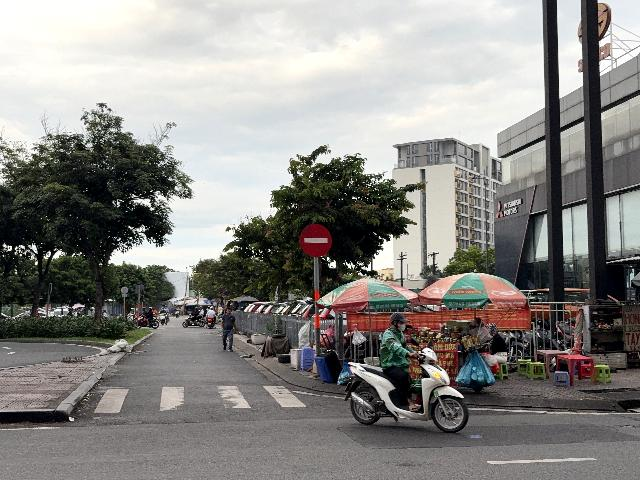cam-di-nguoc-chieu: (300, 224, 332, 257)
